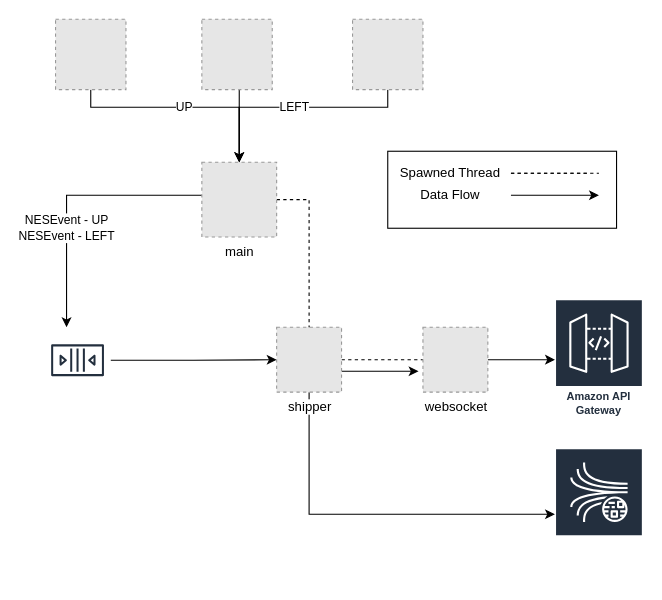
Image size: 662x600. Some labels were removed from this diagram. Grey dashed boxes stand in for pictures. Here are the shapes that lost their labels. From the top down, the centre of each, then its label:
At point 77,359: "Queue".
At point 598,513: "Amazon Kinesis Data Streams".
